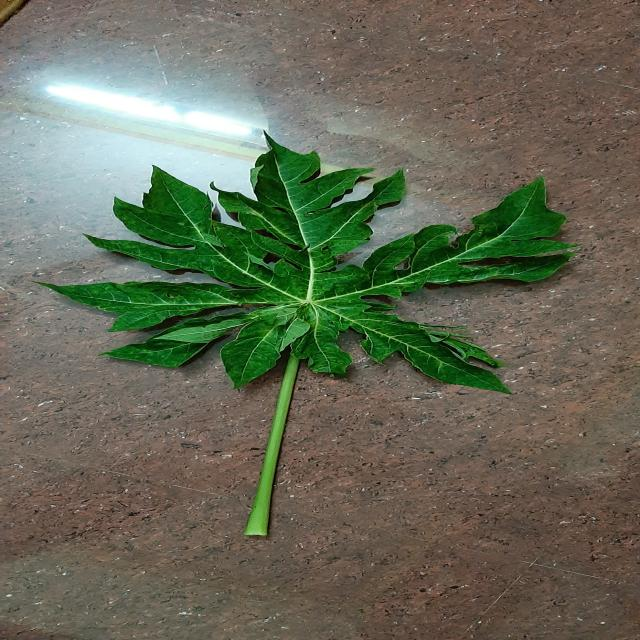papaya: (46, 136, 572, 392)
